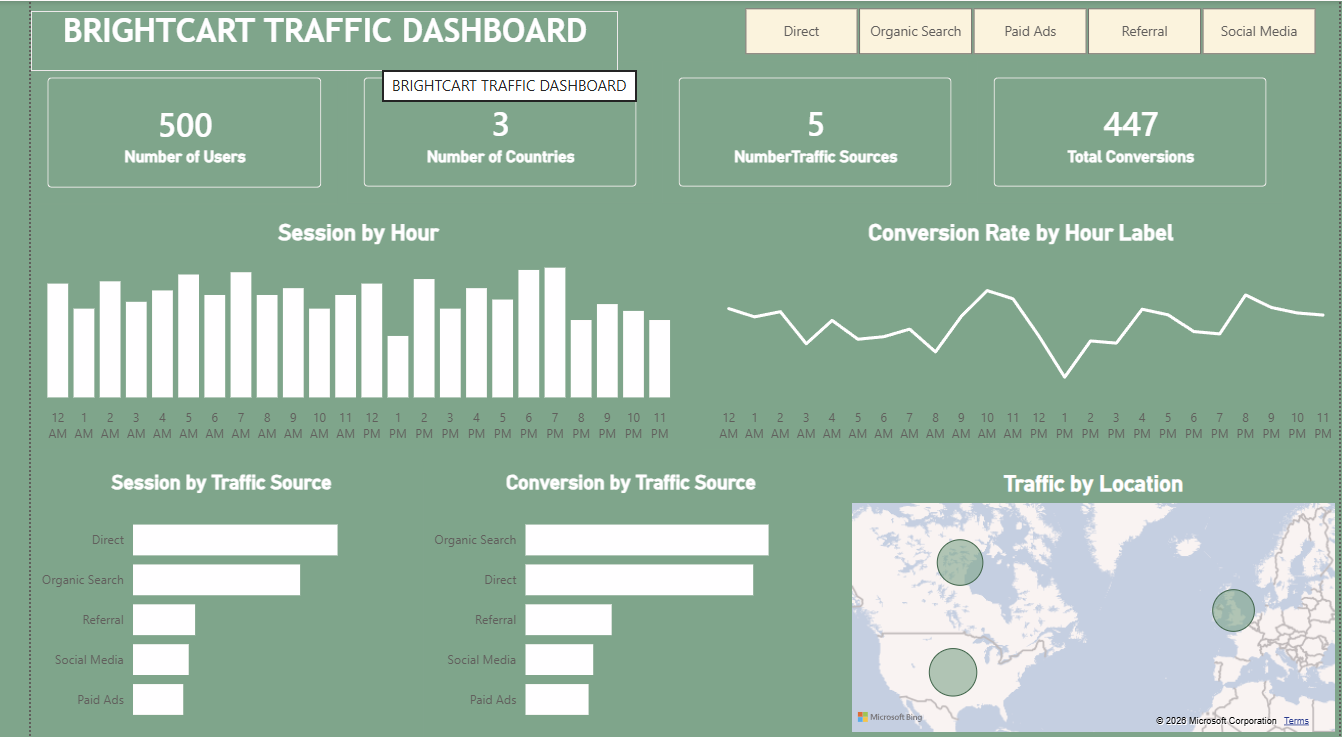

The page's visual inventory and layout, read from the dashboard file:
{"tool":"powerbi","page":{"name":"Brightcart Dashbooard","canvas":[1280,720],"ordinal":0},"visuals":[{"type":"cardVisual","title":"Number of Users","fields":{"Data":["Count(user_session_data.UserID)"]},"box":[0,58.7,300,140],"z":0},{"type":"cardVisual","fields":{"Data":["Count(user_session_data.Country Clean)"]},"box":[309.4,58.7,299.6,139.4],"z":1000},{"type":"cardVisual","fields":{"Data":["Count(user_session_data.Traffic Source)"]},"box":[617.5,58.7,299.6,139.4],"z":2000},{"type":"cardVisual","fields":{"Data":["Sum(engagement_data.Conversion Flag)"]},"box":[925.7,58.7,299.6,139.4],"z":3000},{"type":"clusteredColumnChart","title":"Session by Hour","fields":{"Category":["user_session_data.Hour Label"],"Y":["Count(user_session_data.SessionID)"]},"box":[0,214,640.8,225],"z":4000},{"type":"clusteredBarChart","title":"Session by Traffic Source","fields":{"Category":["user_session_data.Traffic Source"],"Y":["CountNonNull(user_session_data.SessionID)"]},"box":[0,459.8,373,260.5],"z":5000},{"type":"clusteredBarChart","title":"Conversion by Traffic Source","fields":{"Category":["user_session_data.Traffic Source"],"Y":["Sum(engagement_data.Conversion Flag)"]},"box":[384,459.8,406,260.5],"z":6000},{"type":"lineChart","fields":{"Category":["user_session_data.Hour Label"],"Y":["engagement_data.Conversion Rate"]},"box":[656.7,214,623.6,225],"z":7000},{"type":"map","title":"Traffic by Location","fields":{"Category":["user_session_data.Country Clean"],"Size":["CountNonNull(user_session_data.Country Clean)"]},"box":[798.5,459.8,481.8,260.5],"z":8000},{"type":"shape","title":"BRIGHTCART TRAFFIC DASHBOARD","box":[0,9.8,574.7,58.7],"z":9000},{"type":"slicer","fields":{"Values":["user_session_data.Traffic Source"]},"box":[672.6,0,607.7,58.7],"z":10000}]}

Visuals, with their boxes in screenshot pixels (x1, y1, x2, y2), scaled from the page's 1280x720 canvas onto the 1342x737 screenshot:
"Number of Users" cardVisual: x1=0, y1=60, x2=315, y2=203
cardVisual - Count(user_session_data.Country Clean): x1=324, y1=60, x2=638, y2=203
cardVisual - Count(user_session_data.Traffic Source): x1=647, y1=60, x2=962, y2=203
cardVisual - Sum(engagement_data.Conversion Flag): x1=971, y1=60, x2=1285, y2=203
"Session by Hour" clusteredColumnChart: x1=0, y1=219, x2=672, y2=449
"Session by Traffic Source" clusteredBarChart: x1=0, y1=471, x2=391, y2=736
"Conversion by Traffic Source" clusteredBarChart: x1=403, y1=471, x2=828, y2=736
lineChart - user_session_data.Hour Label x engagement_data.Conversion Rate: x1=689, y1=219, x2=1341, y2=449
"Traffic by Location" map: x1=837, y1=471, x2=1341, y2=736
"BRIGHTCART TRAFFIC DASHBOARD" shape: x1=0, y1=10, x2=603, y2=70
slicer - user_session_data.Traffic Source: x1=705, y1=0, x2=1341, y2=60
